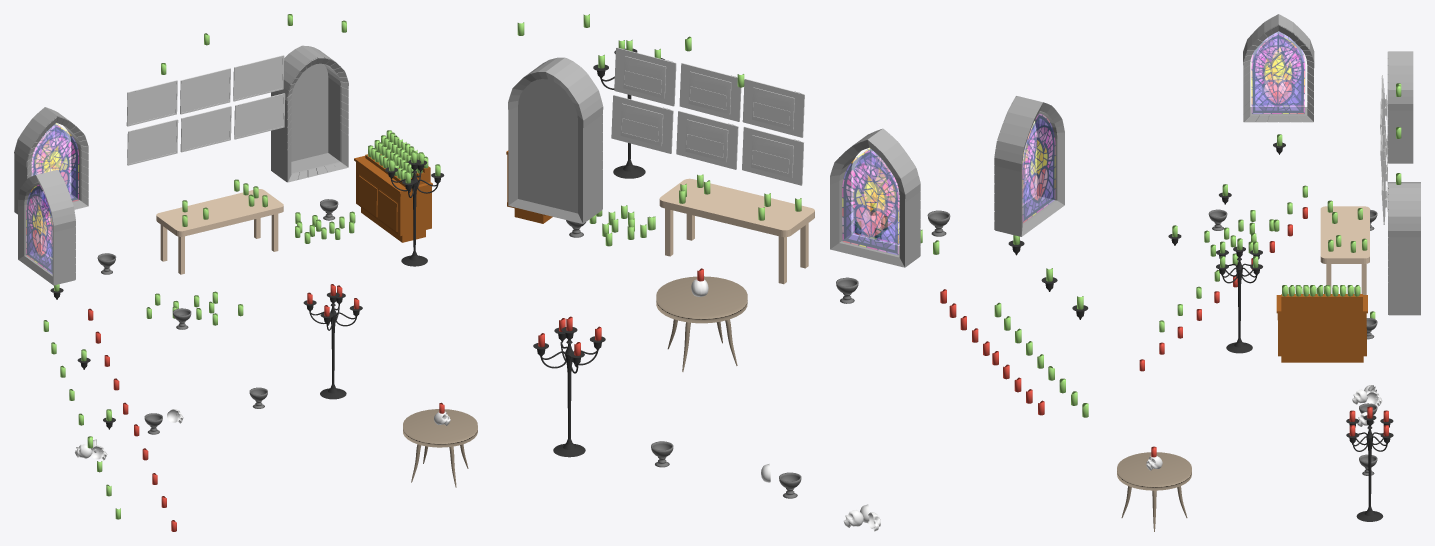
Rendered from Things14.glb.
3 views of the same model, side by side, from view 1: azimuth 30°, elevation 25°; view 2: azimuth 150°, elevation 25°; view 3: azimuth 270°, elevation 25° (orthographic). The views are drawn at different scales.
Visible parts, largest first — view 1: WindowRock.003, WindowRock.001, Cube.001, WindowRock.002, DesktopBase, TableBase, WindowCrystal01.002, WindowCrystal01.003, Monitor.01, Monitor.04, Monitor.05, Monitor.02 (+6 smaller); view 2: WindowRock.003, WindowRock.001, WindowRock.002, WindowCrystal01.004, DesktopBase, WindowCrystal01.002, TableBase, WindowCrystal01.003, Monitor.05, Monitor.03, Monitor.06, Monitor.01 (+4 smaller); view 3: Cube.001, WindowRock.003, WindowCrystal01.001, WindowCrystal01.003, WindowRock.001, WindowRock.002, DesktopBase, TableBase, CandelabraBase, CandelabraBase.001.
Boxes of the visible parts, x1=… form: WindowRock.003: x1=271, y1=45, x2=348, y2=182; WindowRock.001: x1=18, y1=170, x2=75, y2=285; Cube.001: x1=354, y1=154, x2=432, y2=242; WindowRock.002: x1=14, y1=107, x2=88, y2=217; DesktopBase: x1=156, y1=189, x2=283, y2=236; TableBase: x1=403, y1=409, x2=477, y2=447; WindowCrystal01.002: x1=32, y1=125, x2=78, y2=208; WindowCrystal01.003: x1=26, y1=185, x2=52, y2=273; Monitor.01: x1=126, y1=80, x2=177, y2=126; Monitor.04: x1=127, y1=119, x2=178, y2=165; Monitor.05: x1=180, y1=106, x2=231, y2=152; Monitor.02: x1=180, y1=68, x2=230, y2=114; WindowRock.003: x1=508, y1=57, x2=603, y2=223; WindowRock.001: x1=994, y1=96, x2=1064, y2=236; WindowRock.002: x1=830, y1=128, x2=920, y2=267; WindowCrystal01.004: x1=842, y1=150, x2=898, y2=254; DesktopBase: x1=659, y1=178, x2=814, y2=237; WindowCrystal01.002: x1=853, y1=148, x2=899, y2=244; TableBase: x1=656, y1=276, x2=747, y2=323; WindowCrystal01.003: x1=1023, y1=113, x2=1055, y2=222; Monitor.05: x1=676, y1=111, x2=738, y2=169; Monitor.03: x1=614, y1=47, x2=676, y2=106; Monitor.06: x1=611, y1=95, x2=673, y2=153; Monitor.01: x1=742, y1=79, x2=804, y2=137; Cube.001: x1=1276, y1=294, x2=1367, y2=362; WindowRock.003: x1=1388, y1=182, x2=1420, y2=315; WindowCrystal01.001: x1=1251, y1=34, x2=1304, y2=113; WindowCrystal01.003: x1=1251, y1=31, x2=1304, y2=106; WindowRock.001: x1=1243, y1=14, x2=1314, y2=122; WindowRock.002: x1=1387, y1=51, x2=1413, y2=163; DesktopBase: x1=1320, y1=206, x2=1369, y2=263; TableBase: x1=1117, y1=452, x2=1191, y2=490; CandelabraBase: x1=1356, y1=426, x2=1383, y2=521; CandelabraBase.001: x1=1226, y1=257, x2=1252, y2=353.
Size of the model in its own units: 18.49 by 16.95 by 12.32.
Materials: 11 (1 with a texture image).
